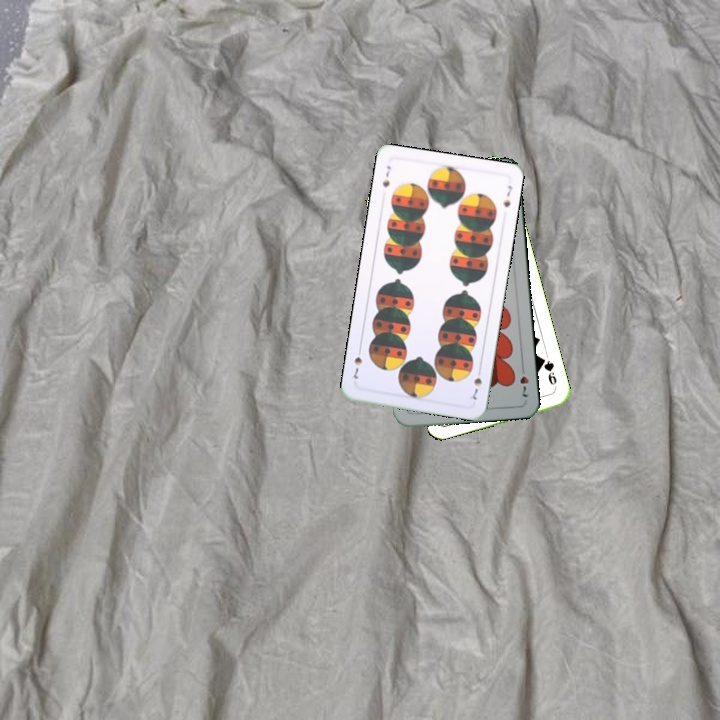G9: (537, 354, 559, 387)
H7: (516, 361, 531, 400)
S7: (468, 364, 484, 402), (378, 162, 393, 190)
